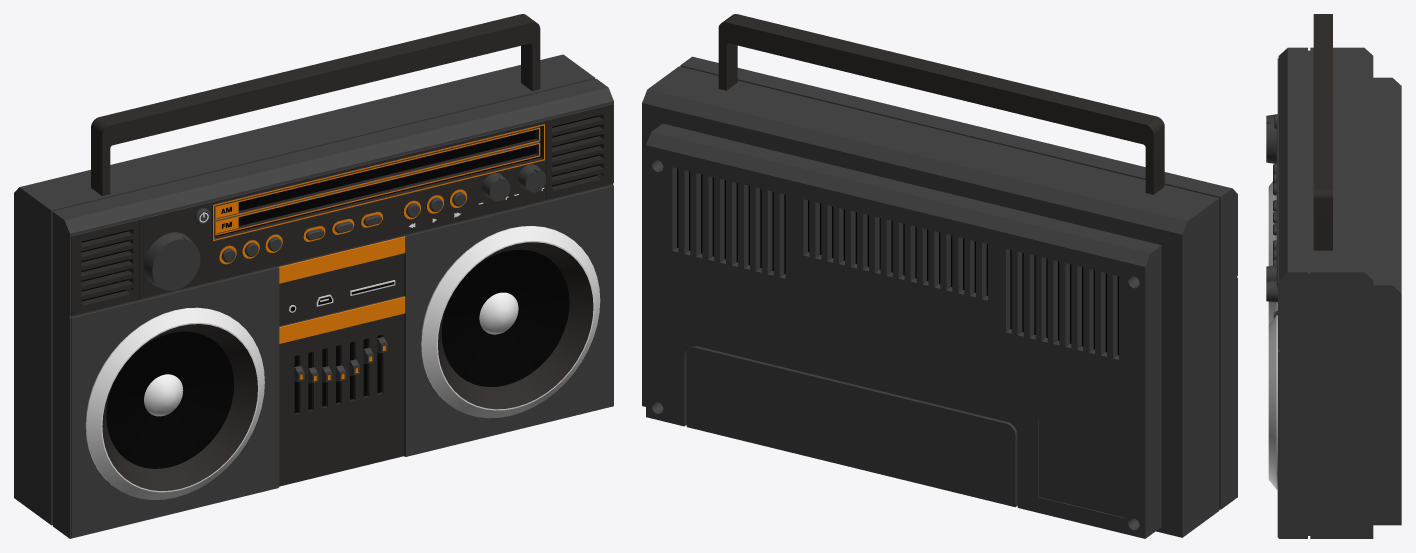
File: music_1.glb
3 renders of one model, left to right at view 1: azimuth 30°, elevation 25°; view 2: azimuth 150°, elevation 25°; view 3: azimuth 270°, elevation 25°, orthographic. The views are drawn at different scales.
Parts seen in each view (by area): view 1: Material2 (×5); view 2: Material2 (×3); view 3: Material2 (×3).
Boxes of the visible parts, x1=… form: Material2 (×5): x1=14, y1=14, x2=613, y2=538; Material2 (×3): x1=642, y1=14, x2=1237, y2=538; Material2 (×3): x1=1266, y1=14, x2=1401, y2=538.
Bounding box in the file's own units: 18.58 × 12.52 × 4.72.
